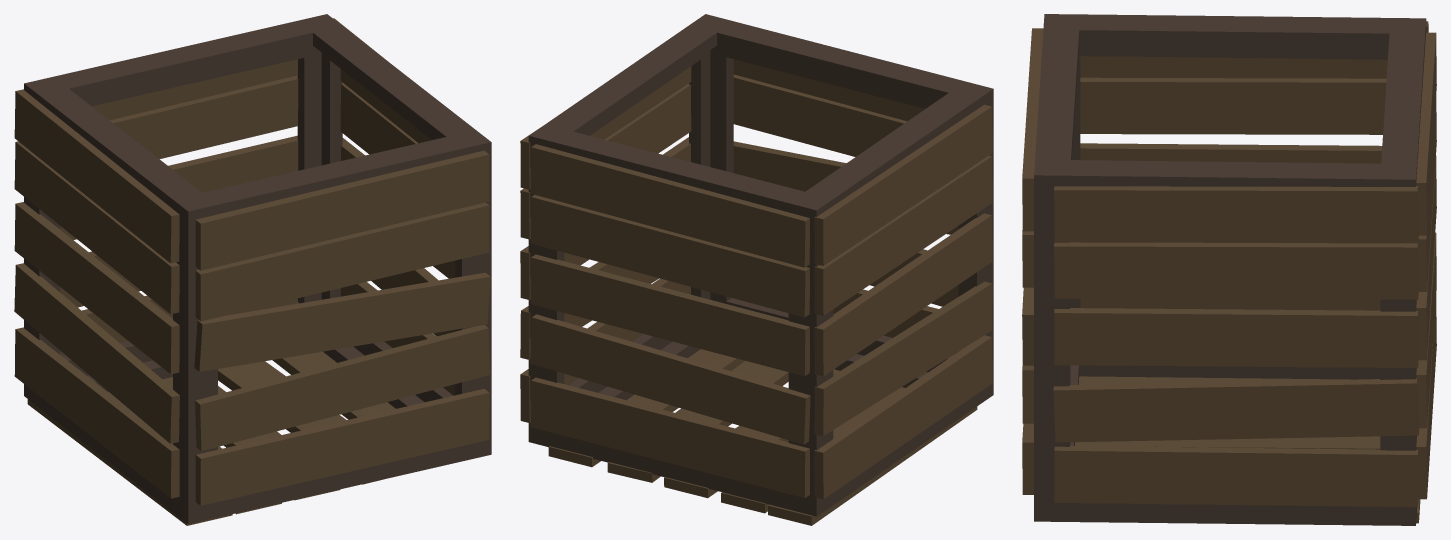
The model's file is Crate.fbx.
3 views of the same model, side by side, from view 1: azimuth 30°, elevation 25°; view 2: azimuth 150°, elevation 25°; view 3: azimuth 270°, elevation 25° (orthographic). The views are drawn at different scales.
Visible parts, largest first — view 1: Crate.008; view 2: Crate.008; view 3: Crate.008.
Part boxes in pixels (x1=…): Crate.008: x1=14, y1=14, x2=491, y2=525; Crate.008: x1=520, y1=14, x2=993, y2=525; Crate.008: x1=1022, y1=14, x2=1436, y2=525.
Size of the model in its own units: 56.77 by 54.34 by 57.08.
